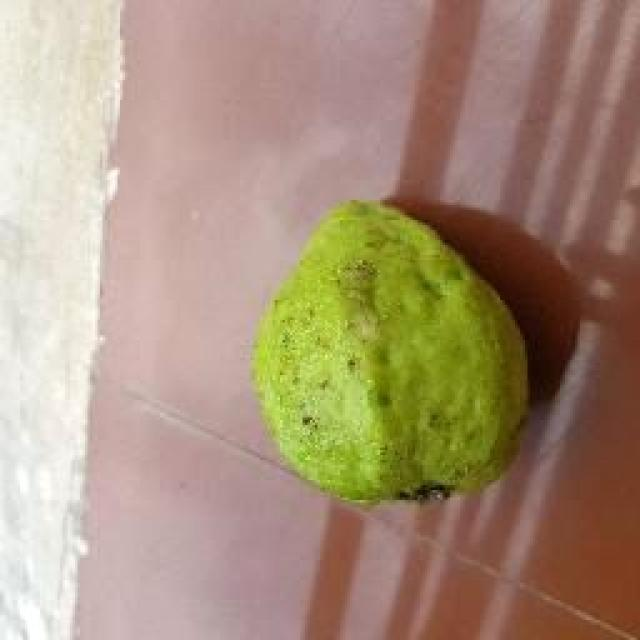Good_Guava: (250, 200, 525, 505)
